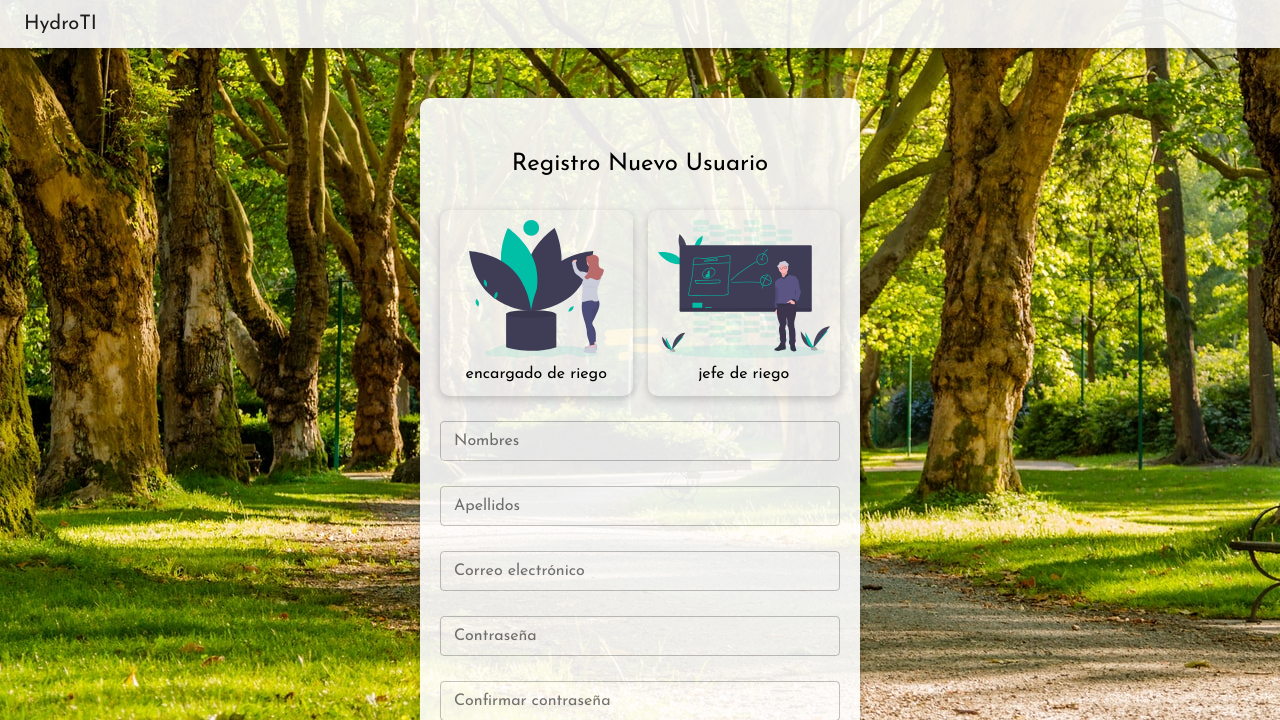
Test: As an user I want to register in the application to enter the plattforms › should check that password field and its confirmation are the same
Step 1. Type "password!" into the password field with id "sign-up-password" → (640, 636), box [440,616,840,656]
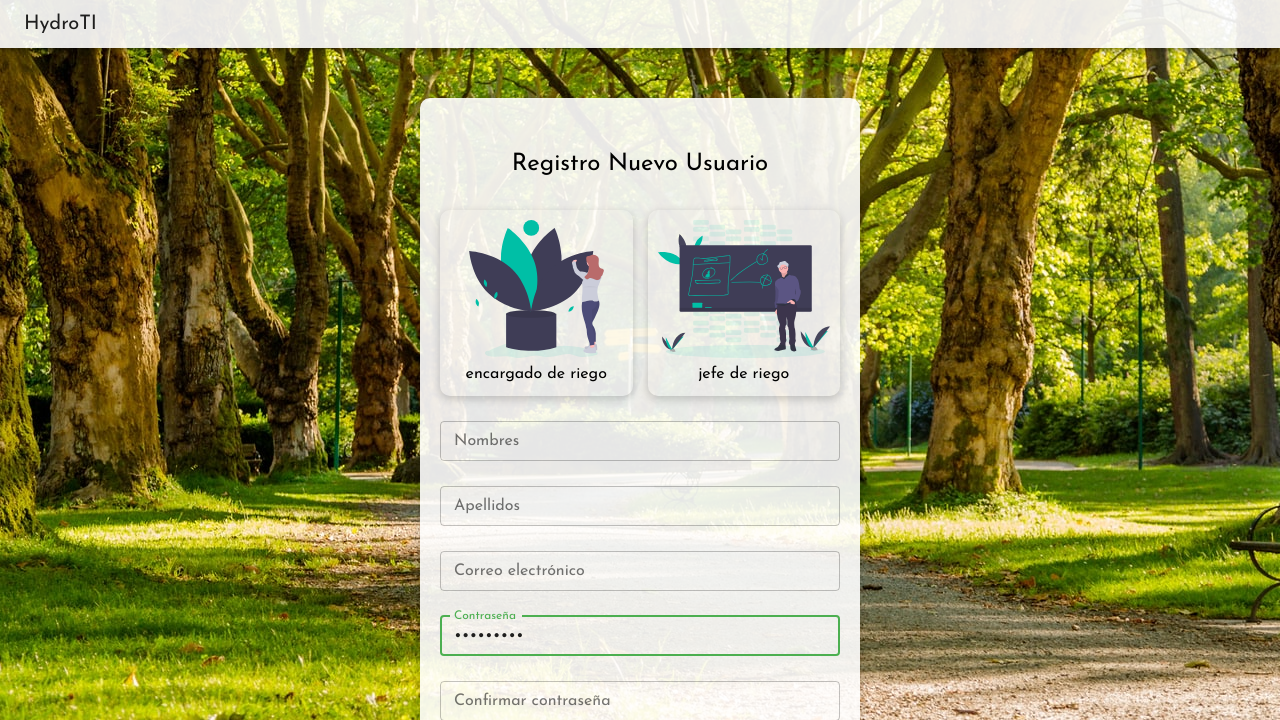
Step 2. Scroll
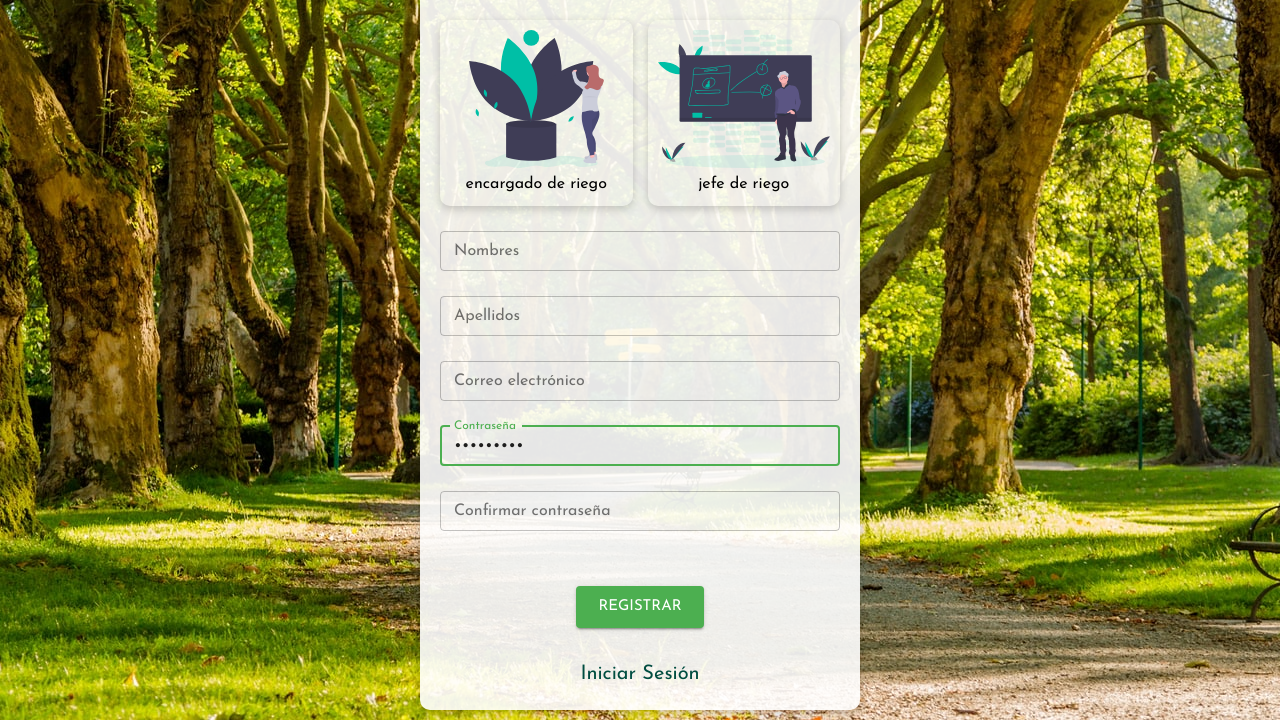
Step 3. Type "password!." into the password field with id "sign-up-password-confirmation" → (640, 511), box [440,491,840,531]
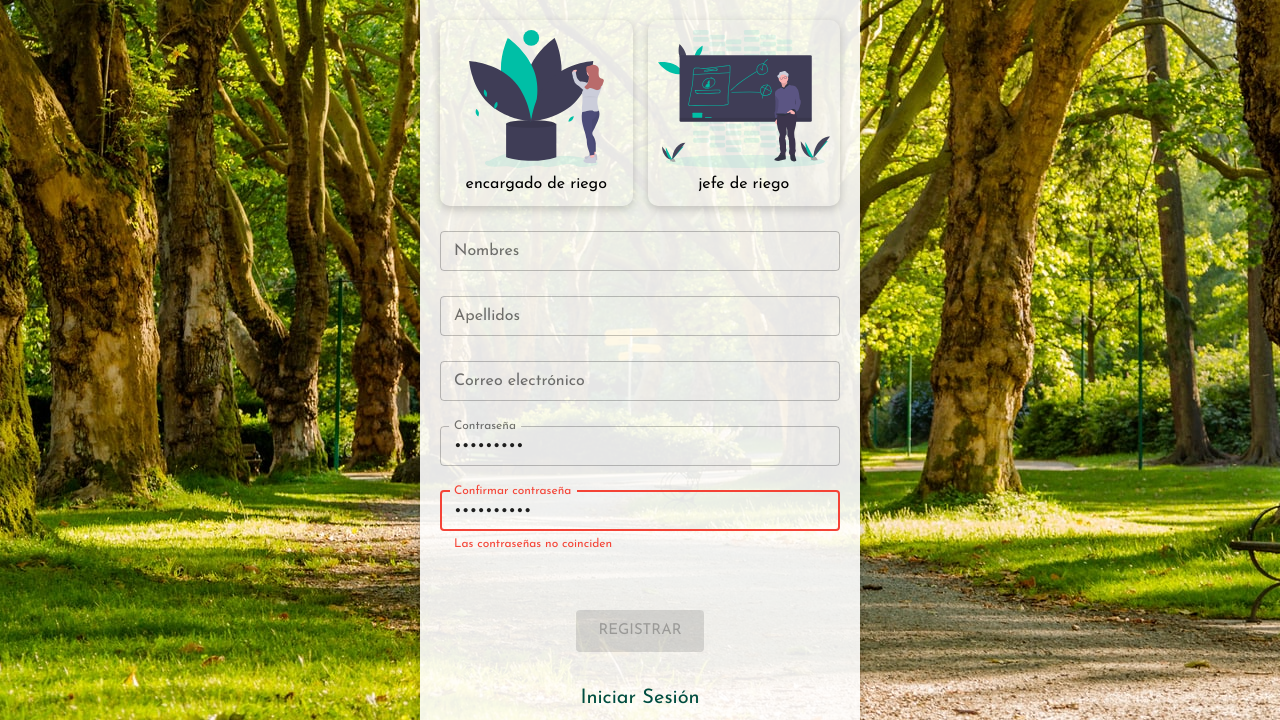
Expected: the text with id "sign-up-password-confirmation-helper-text" reads "Las contraseñas no coinciden", [454,538,612,550]
